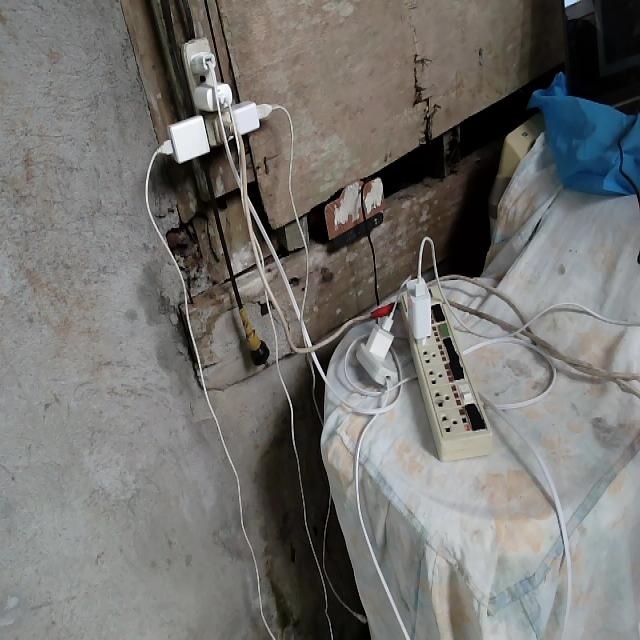-: (114, 18, 310, 222)
